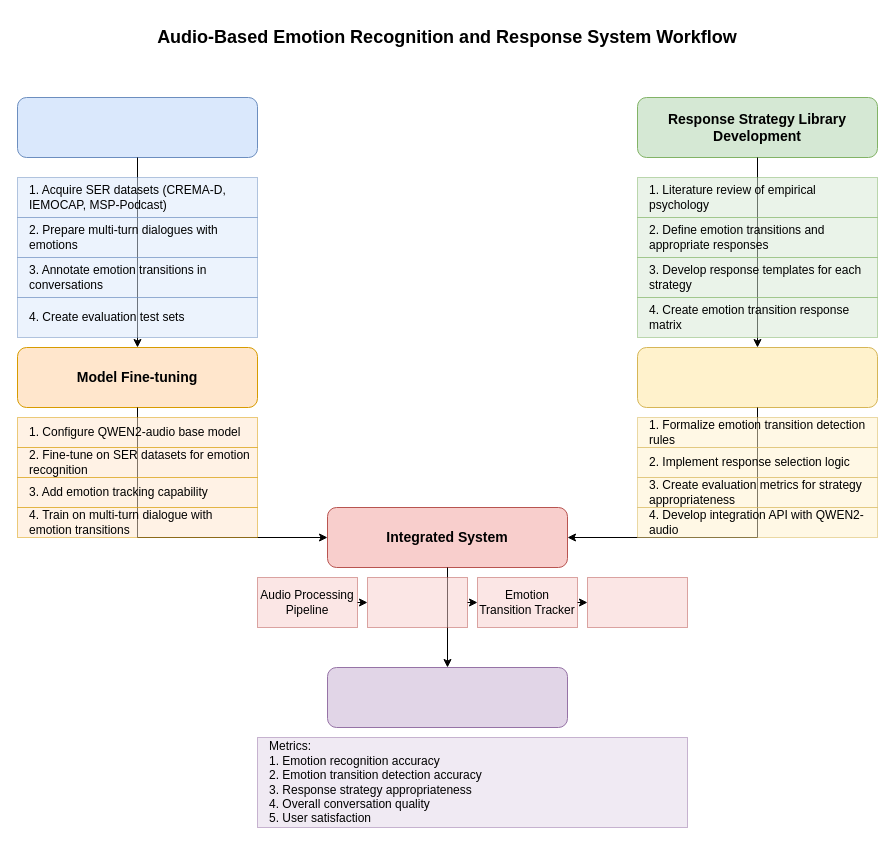
Image size: 895x845. Some labels were removed from this diagram. Here are the shapes that lost their labels. From the top down, the centre of each, then its label:
At point 137,127: "Data Preparation Phase".
At point 757,377: "Strategy Implementation".
At point 417,602: "Emotion Recognition Module".
At point 637,602: "Response Strategy Selection".
At point 447,697: "Evaluation Framework".
